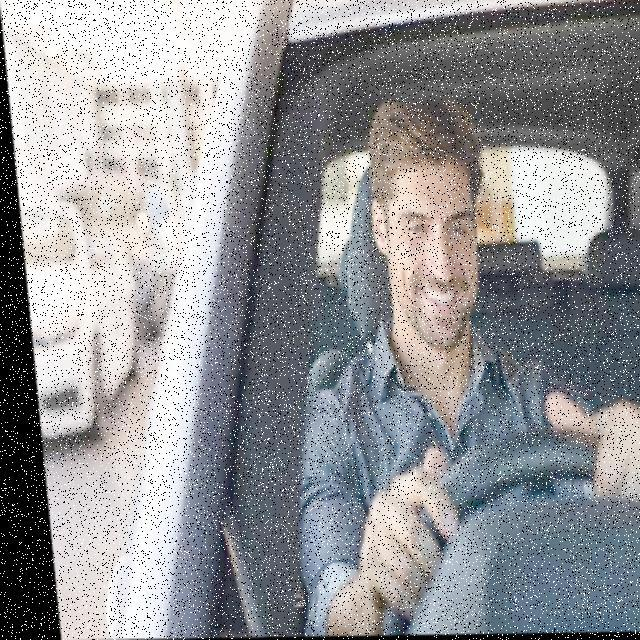noSeatbelt: (270, 280, 555, 531)
